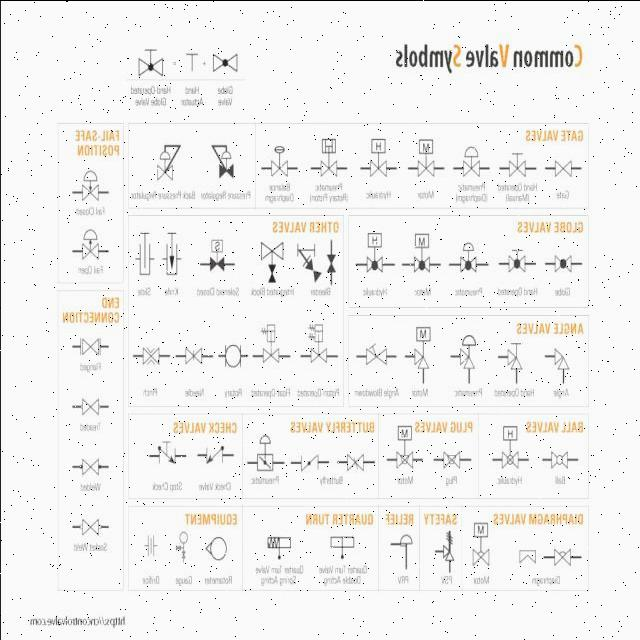Angle Blowdown: (358, 338, 394, 372)
Angle Valve: (551, 344, 579, 374)
BackPressure Regulator: (150, 134, 190, 184)
Balance Diaphragm Gate Valve: (266, 141, 294, 178)
Ball Valve: (547, 446, 571, 470)
Bleeder Valve: (296, 243, 323, 281), (324, 238, 339, 280)
Butterfly Valve: (344, 446, 368, 476), (296, 450, 322, 474)
Check Valve: (199, 439, 230, 469)
Diaphragm Valve: (548, 545, 576, 567), (516, 544, 538, 564)
Fail Closed Safe Position: (76, 168, 106, 202)
Fail Open Safe Position: (76, 225, 104, 262)
Float Operated Valve: (254, 320, 288, 364)
Gate Valve: (549, 153, 576, 181)
Gauge: (173, 526, 193, 564)
Globe Valve: (208, 49, 241, 73), (550, 250, 574, 276)
Hand Operated Angle Valve: (502, 332, 528, 374)
Hand Operated Gate Valve: (500, 148, 534, 178)
Hand Operated Globe Valve: (134, 42, 166, 76), (504, 240, 530, 278)
Hydraulic Operated Ball Valve: (495, 420, 524, 472)
Hydraulic Operated Gate Valve: (364, 134, 392, 178)
Hydraulic Operated Globe Valve: (361, 223, 386, 279)
Integrated Block Valve: (257, 238, 287, 284)
Knife Valve: (159, 229, 185, 277)
Motor Operated Angle Valve: (409, 318, 434, 378)
Motor Operated Diaphragm Valve: (468, 515, 490, 567)
Motor Operated Gate Valve: (414, 134, 438, 180)
Motor Operated Globe Valve: (411, 227, 435, 272)
Motor Operated Plug Valve: (392, 422, 413, 472)
Needle Valve: (181, 343, 207, 367)
Orifice: (138, 526, 160, 562)
PRV: (387, 530, 414, 572)
PSV: (434, 528, 458, 570)
Pinch Valve: (136, 341, 165, 369)
Piston Operated Valve: (303, 315, 333, 367)
Plug Valve: (441, 444, 465, 470)
Pneumatic-Diaphragm Angle Valve: (456, 330, 481, 372)
Pneumatic-Diaphragm Butterfly Valve: (252, 429, 277, 472)
Pneumatic-Diaphragm Gate Valve: (458, 140, 483, 182)
Pneumatic-Diaphragm Globe Valve: (458, 237, 482, 275)
Pressure Regulator: (207, 137, 235, 183)
Quarter Turn Valve Double Acting: (324, 528, 358, 562)
Quarter Turn Valve Spring Acting: (264, 530, 295, 558)
Rotameter: (202, 530, 230, 566)
Rotary Piston-Pneumatic Gate Valve: (316, 132, 338, 182)
Rotary Valve: (219, 339, 245, 371)
Slide Valve: (135, 227, 155, 280)
Solenoid Closed Valve: (202, 234, 235, 276)
Stop Valve: (154, 433, 180, 469)
